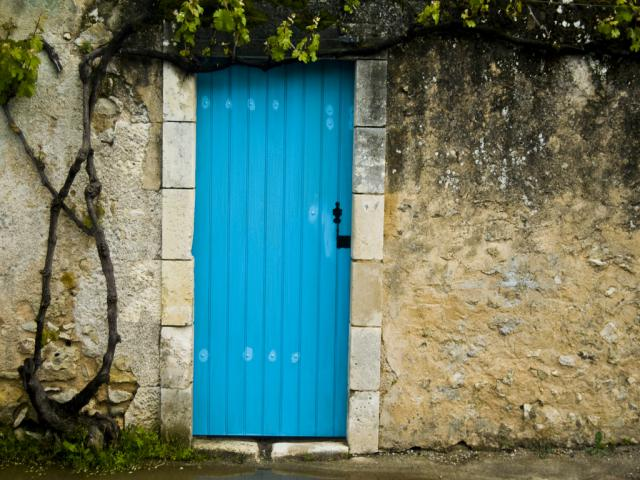Door-handle: (332, 200, 352, 250)
